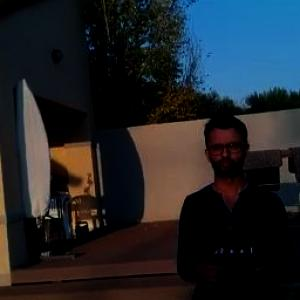follow: (169, 99, 299, 299)
